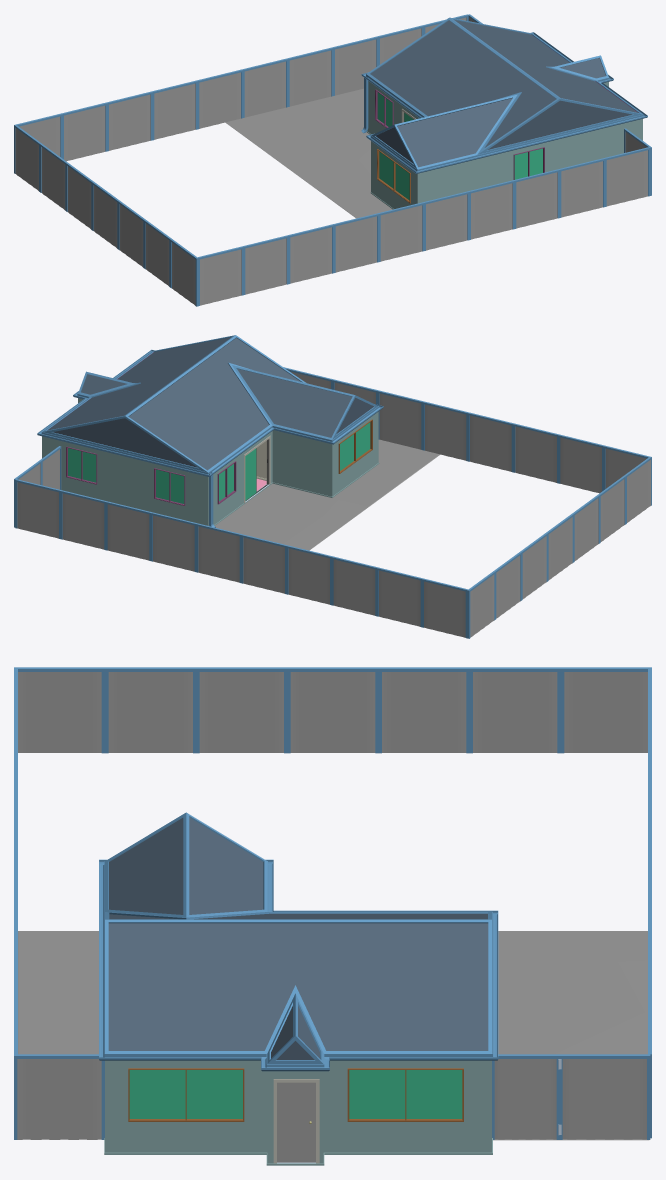
Rendered from houseGeo_1.fbx.
3 renders of one model, top to bottom at view 1: azimuth 30°, elevation 25°; view 2: azimuth 150°, elevation 25°; view 3: azimuth 270°, elevation 25°, orthographic. The views are drawn at different scales.
Parts seen in each view (by area): view 1: roof, concrete, outerWalls, fence4 (×3), fence1 (×3), fence3 (×3), fence6 (×3), fence5 (×3), fence7 (×3), fence8 (×2), fence9 (×2), fence10 (×2) (+7 smaller); view 2: roof, outerWalls, concrete, fence3 (×3), fence1 (×3), fence4 (×3), fence5 (×3), fence7 (×3), fence8 (×2), fence6 (×3), fence10, fence11 (+10 smaller); view 3: roof, concrete, outerWalls, fence3, fence1, fence2, fence4, fence5, backGate, frontFence1, fence6, fence7 (+7 smaller).
Boxes of the visible parts, bbox=[...] form: roof: bbox=[367, 17, 642, 169]; concrete: bbox=[225, 88, 392, 218]; outerWalls: bbox=[367, 81, 642, 208]; fence4 (×3): bbox=[66, 69, 424, 261]; fence1 (×3): bbox=[61, 102, 288, 294]; fence3 (×3): bbox=[92, 80, 378, 272]; fence6 (×3): bbox=[14, 47, 514, 239]; fence5 (×3): bbox=[40, 58, 469, 250]; fence7 (×3): bbox=[16, 113, 243, 306]; fence8 (×2): bbox=[106, 91, 333, 283]; fence9 (×2): bbox=[332, 36, 559, 228]; fence10 (×2): bbox=[377, 25, 604, 217]; roof: bbox=[42, 335, 378, 472]; outerWalls: bbox=[42, 398, 378, 525]; concrete: bbox=[215, 439, 440, 550]; fence3 (×3): bbox=[286, 412, 573, 605]; fence1 (×3): bbox=[377, 434, 625, 627]; fence4 (×3): bbox=[241, 401, 547, 600]; fence5 (×3): bbox=[196, 390, 521, 619]; fence7 (×3): bbox=[422, 445, 651, 638]; fence8 (×2): bbox=[331, 423, 559, 616]; fence6 (×3): bbox=[151, 379, 495, 638]; fence10: bbox=[60, 490, 106, 550]; fence11: bbox=[15, 479, 61, 538]; roof: bbox=[105, 812, 491, 1063]; concrete: bbox=[18, 931, 648, 1140]; outerWalls: bbox=[105, 1060, 491, 1163]; fence3: bbox=[287, 667, 378, 753]; fence1: bbox=[105, 667, 196, 753]; fence2: bbox=[196, 667, 287, 753]; fence4: bbox=[378, 667, 469, 753]; fence5: bbox=[469, 667, 560, 753]; backGate: bbox=[559, 1054, 650, 1139]; frontFence1: bbox=[14, 1054, 104, 1139]; fence6: bbox=[561, 667, 651, 753]; fence7: bbox=[14, 667, 104, 753].
Bounding box in the file's own units: 21.62 × 3.98 × 14.
